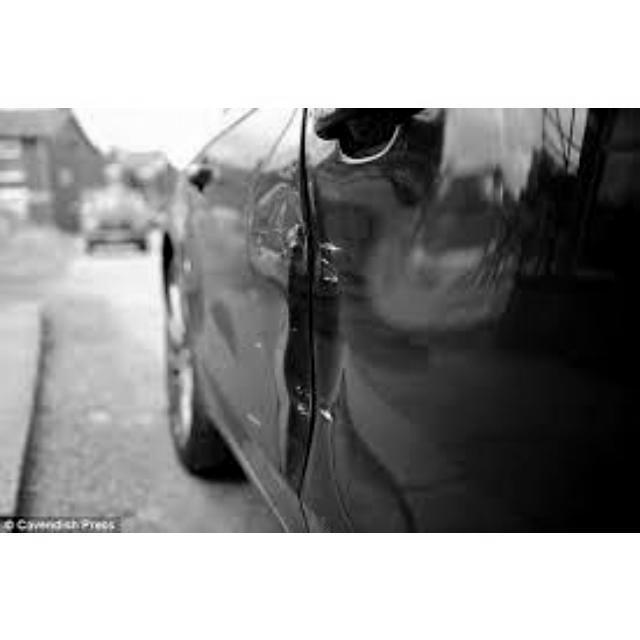doorouter-dent: (224, 133, 331, 463)
